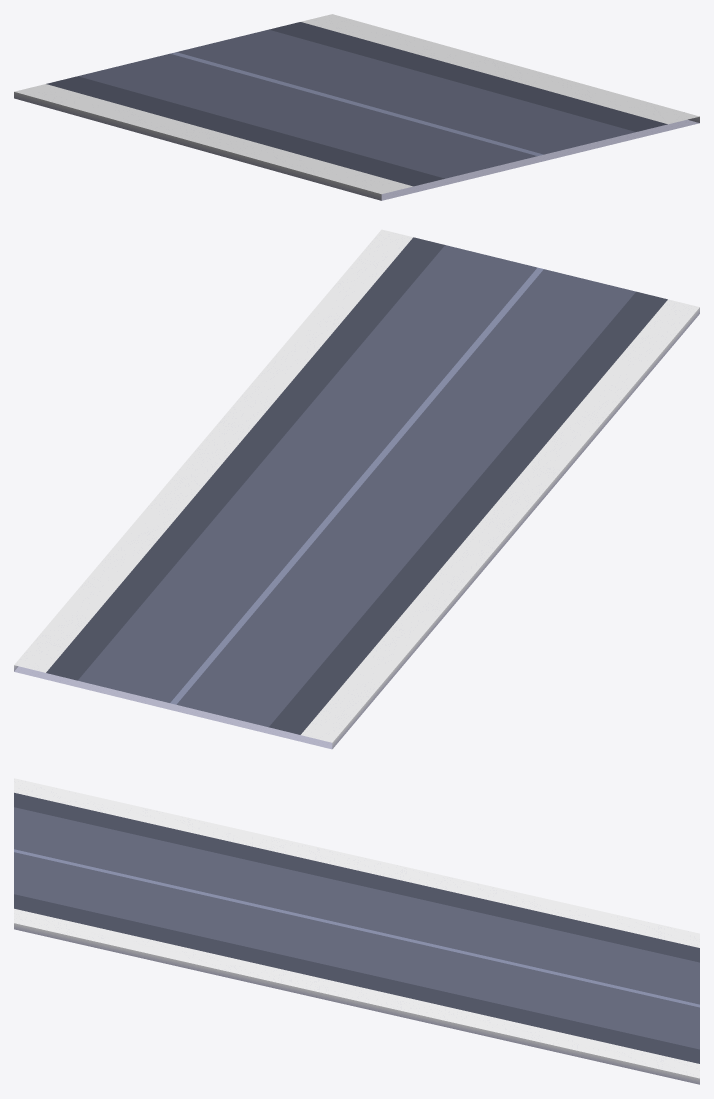
File: road-Straight-BiSlopeDown-BiSlopeDown-Down2-Center-Size2.glb
The picture shows the model from 3 angles, top to bottom: view 1: azimuth 30°, elevation 25°; view 2: azimuth 150°, elevation 25°; view 3: azimuth 270°, elevation 25°; orthographic projection. The views are drawn at different scales.
Visible parts, largest first — view 1: road-Straight-BiSlopeDown-BiSlopeDown-Down2-Center-Size2; view 2: road-Straight-BiSlopeDown-BiSlopeDown-Down2-Center-Size2; view 3: road-Straight-BiSlopeDown-BiSlopeDown-Down2-Center-Size2.
Part boxes in pixels (x1=…): road-Straight-BiSlopeDown-BiSlopeDown-Down2-Center-Size2: x1=14, y1=14, x2=699, y2=200; road-Straight-BiSlopeDown-BiSlopeDown-Down2-Center-Size2: x1=14, y1=229, x2=699, y2=749; road-Straight-BiSlopeDown-BiSlopeDown-Down2-Center-Size2: x1=14, y1=778, x2=699, y2=1084.
Size of the model in its own units: 1 by 0.52 by 2.
Materials: 1 (1 with a texture image).
